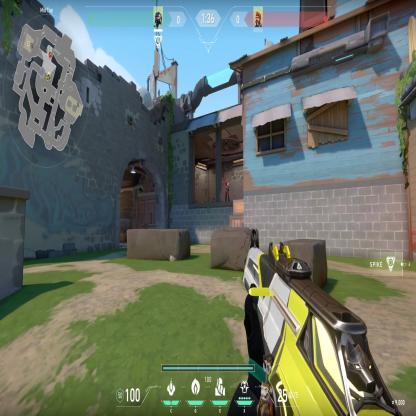enemy: (224, 177, 230, 202)
